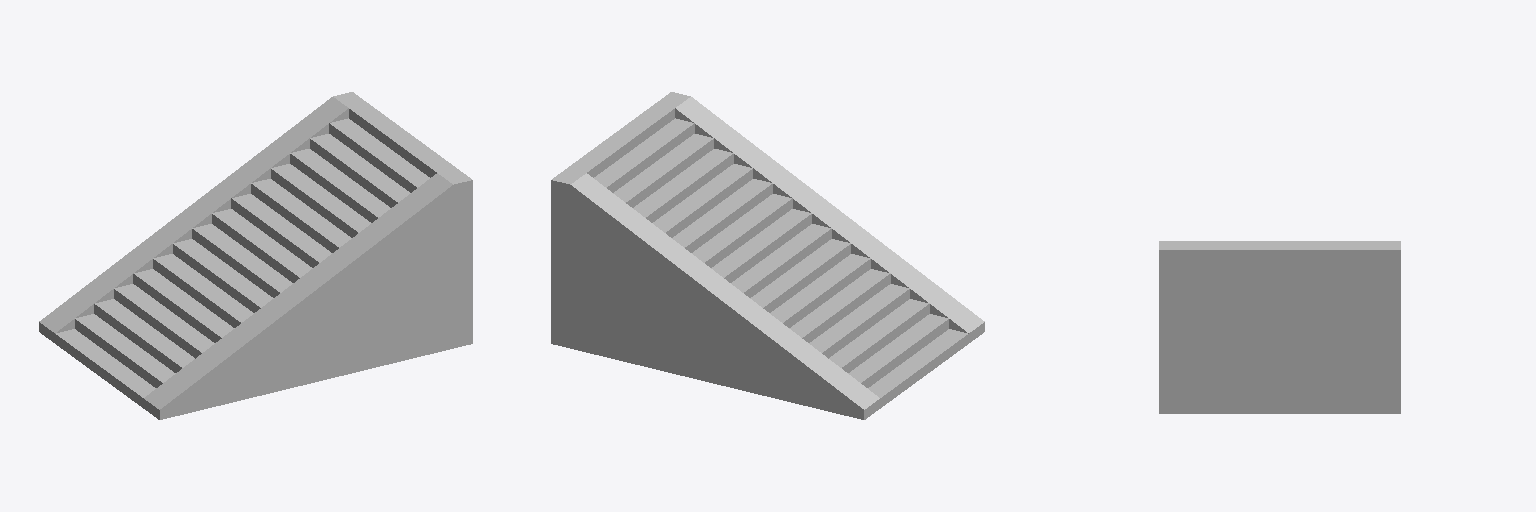
Rendered from stairs.obj.
The picture shows the model from 3 angles: view 1: azimuth 30°, elevation 25°; view 2: azimuth 150°, elevation 25°; view 3: azimuth 270°, elevation 25°; orthographic projection.
Parts seen in each view (by area): view 1: RoadKillOut; view 2: RoadKillOut; view 3: RoadKillOut.
Boxes of the visible parts, box(x1,y1,x2,y2) form: RoadKillOut: box(39, 92, 472, 419); RoadKillOut: box(551, 92, 984, 419); RoadKillOut: box(1159, 241, 1400, 413).
Bounding box in the file's own units: 4.5 × 2.25 × 3.